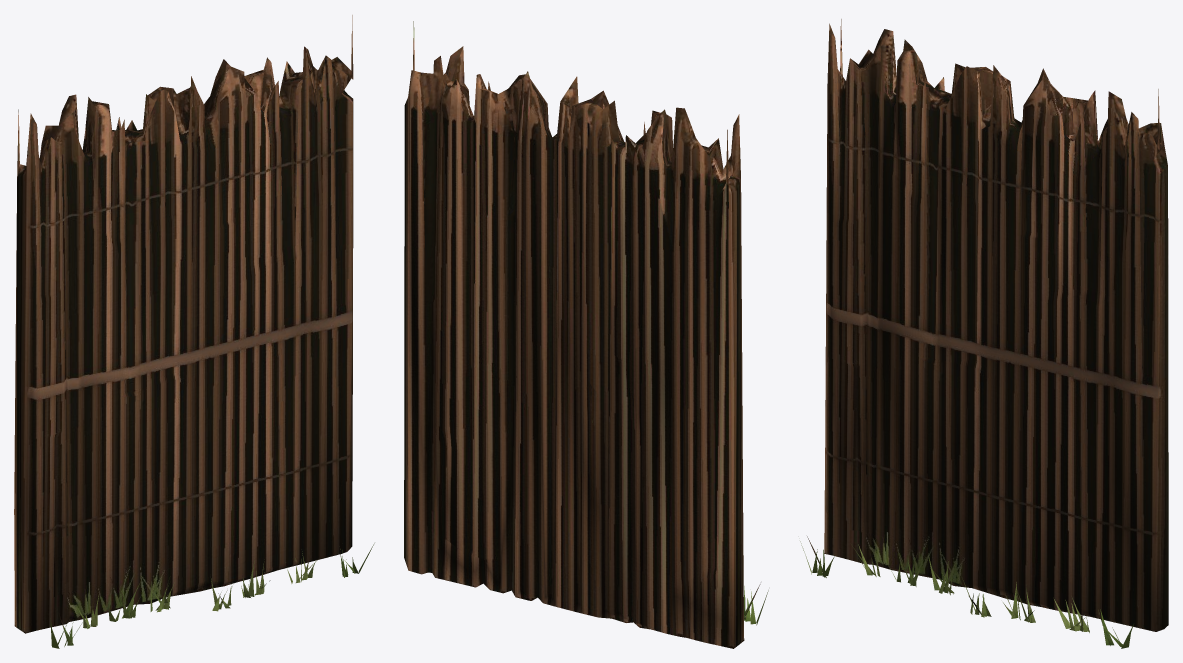
Rendered from fence_reed.glb.
The picture shows the model from 3 angles, left to right: view 1: azimuth 30°, elevation 25°; view 2: azimuth 150°, elevation 25°; view 3: azimuth 330°, elevation 25°; orthographic projection. The views are drawn at different scales.
Visible parts, largest first — view 1: fence_reed_lod0; view 2: fence_reed_lod0; view 3: fence_reed_lod0.
Boxes of the visible parts, box(x1,y1,x2,y2) form: fence_reed_lod0: box(14, 15, 374, 648); fence_reed_lod0: box(404, 21, 768, 648); fence_reed_lod0: box(800, 19, 1168, 648).
Bounding box in the file's own units: 0.9869 × 1.54 × 0.2052.
Materials: 1 (1 with a texture image).
